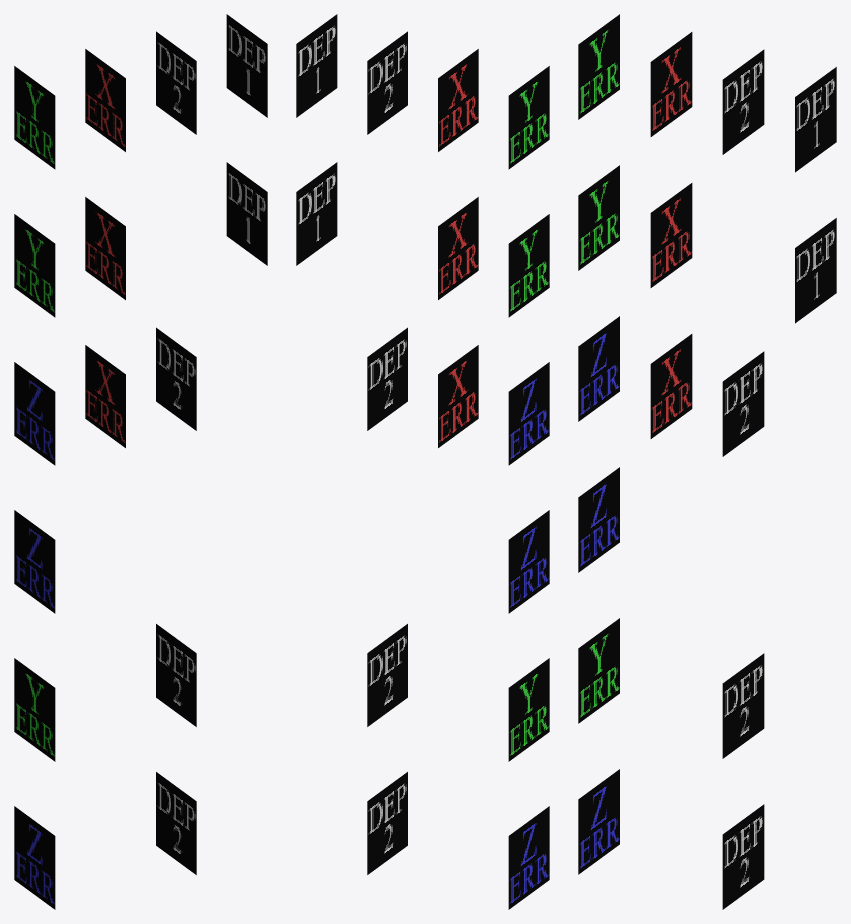
File: noise_gates_1.gltf
The picture shows the model from 3 angles, left to right: view 1: azimuth 30°, elevation 25°; view 2: azimuth 150°, elevation 25°; view 3: azimuth 330°, elevation 25°; orthographic projection.
Size of the model in its own units: 3 by 11 by 1.
1 material, 1 textured.
